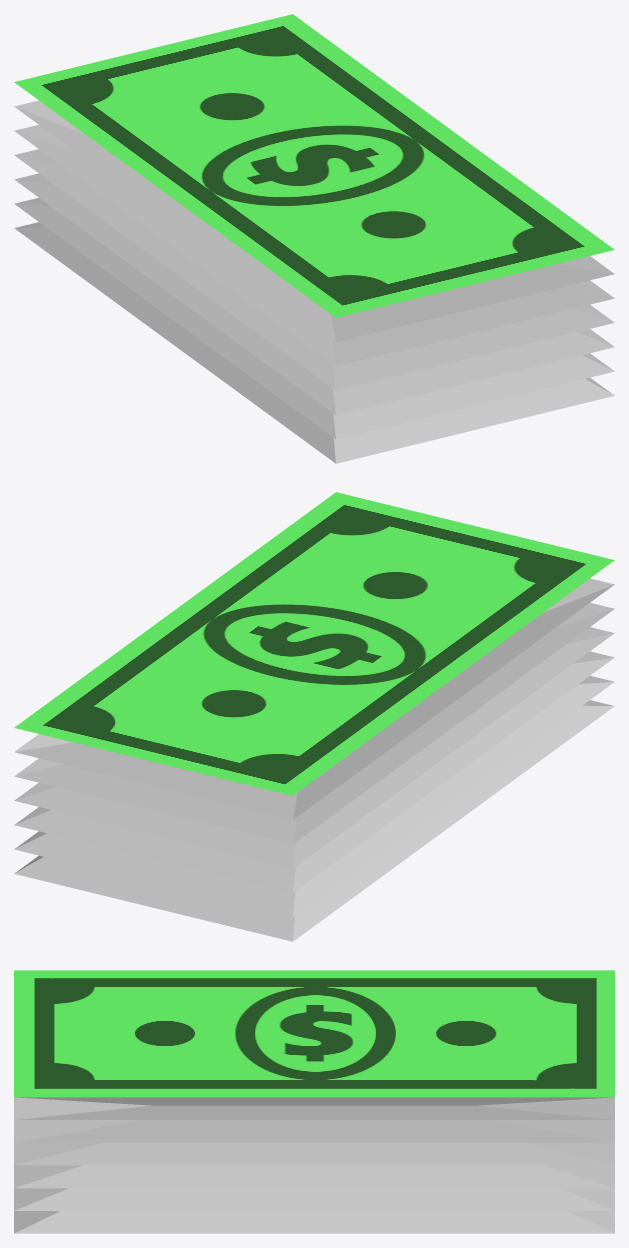
The model's file is cash.fbx.
The picture shows the model from 3 angles, top to bottom: view 1: azimuth 30°, elevation 25°; view 2: azimuth 150°, elevation 25°; view 3: azimuth 270°, elevation 25°; orthographic projection. The views are drawn at different scales.
Visible parts, largest first — view 1: Cash; view 2: Cash; view 3: Cash.
Part boxes in pixels (x1,y1,x2,y2): Cash: (14, 14, 614, 463); Cash: (14, 492, 614, 941); Cash: (14, 970, 614, 1233).
Bounding box in the file's own units: 100 × 50 × 200.
